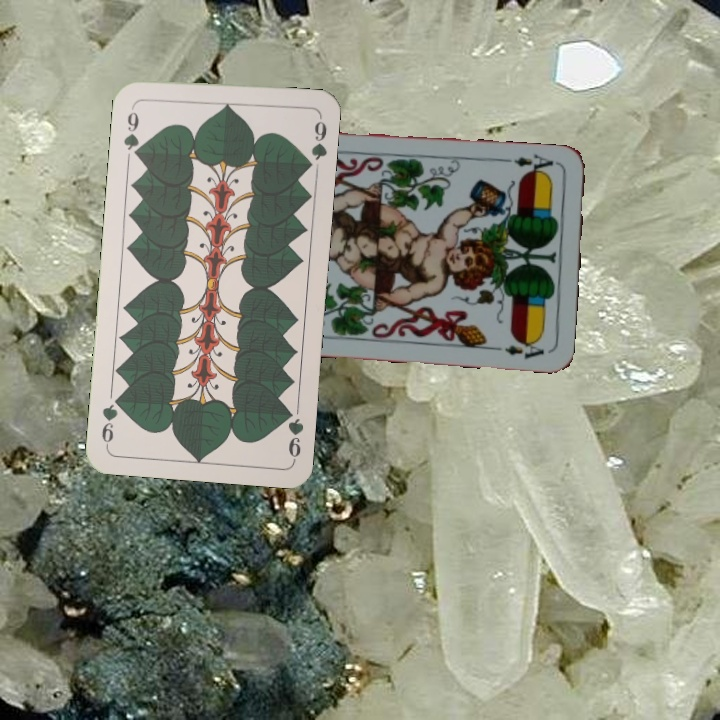EA: (510, 150, 561, 178)
G9: (281, 403, 307, 463), (119, 100, 143, 159)
